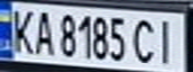1: (75, 11, 93, 58)
5: (106, 14, 130, 63)
8: (54, 10, 78, 57), (90, 12, 112, 61)
A: (30, 7, 57, 56)
C: (127, 15, 160, 64)
I: (151, 15, 184, 66)
K: (6, 6, 39, 55)
